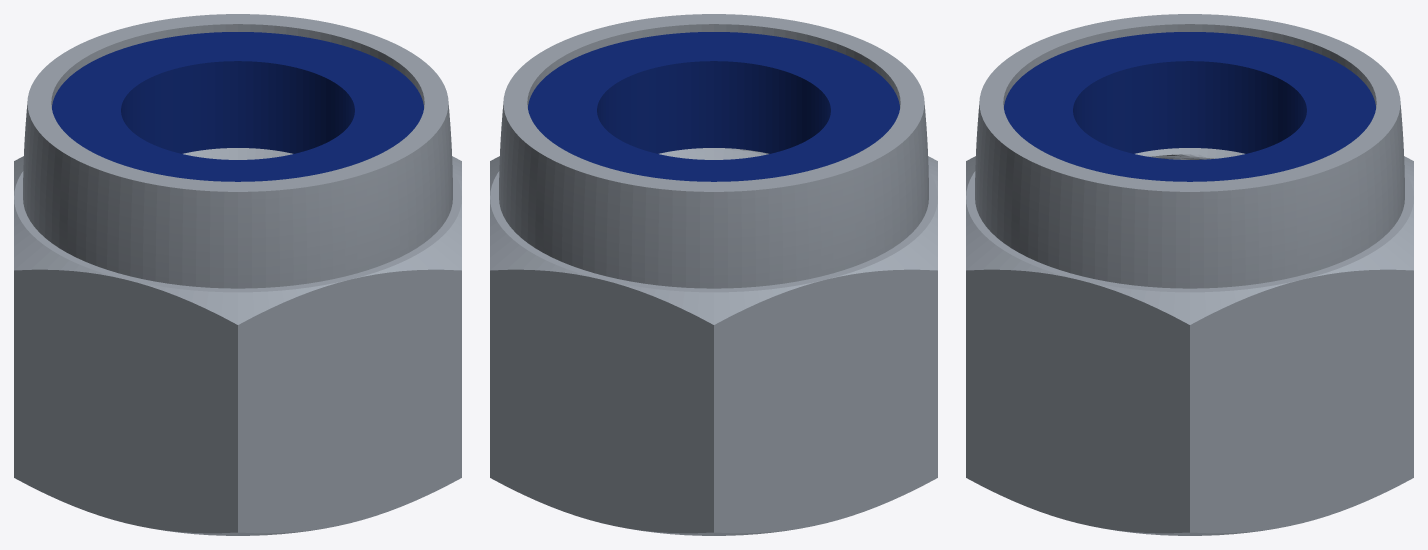
Rendered from model_full.glb.
The picture shows the model from 3 angles, left to right: view 1: azimuth 30°, elevation 25°; view 2: azimuth 150°, elevation 25°; view 3: azimuth 270°, elevation 25°; orthographic projection.
Visible parts, largest first — view 1: steel, nylon_insert; view 2: steel, nylon_insert; view 3: steel, nylon_insert.
Part boxes in pixels (<box>): steel: <box>14,14,461,535</box>; nylon_insert: <box>52,32,423,181</box>; steel: <box>490,14,937,535</box>; nylon_insert: <box>528,32,899,181</box>; steel: <box>966,14,1413,535</box>; nylon_insert: <box>1004,32,1375,181</box>.
Size of the model in its own units: 0.0026 by 0.00187 by 0.00225.
